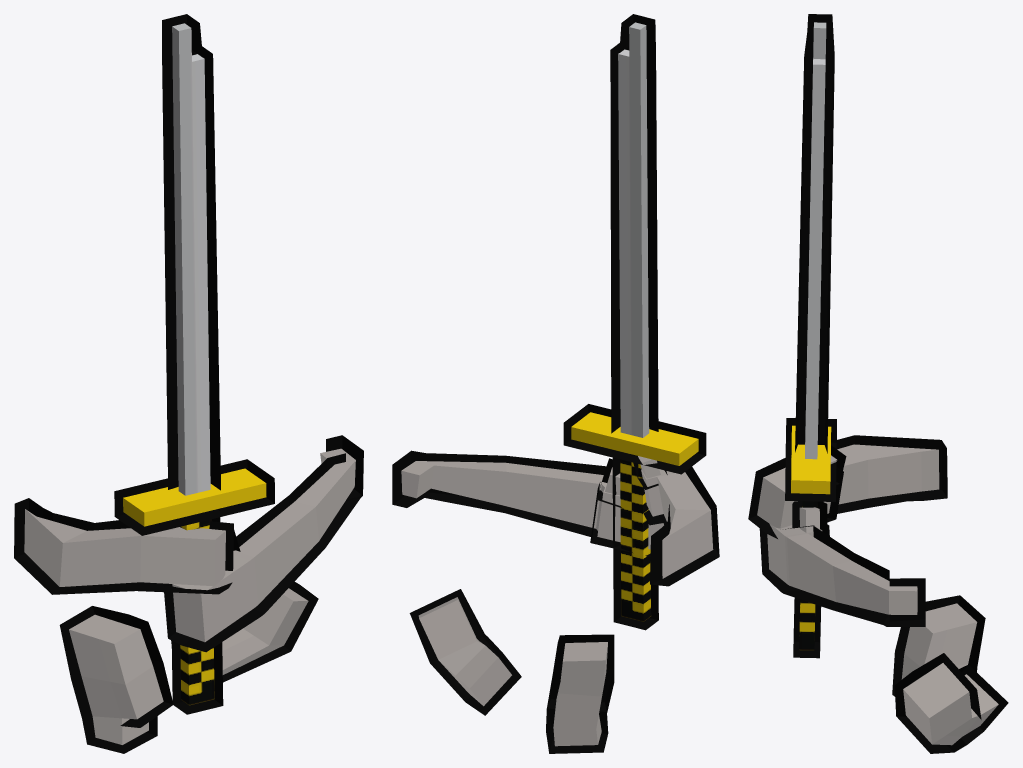
The model's file is Meta_limbs08.glb.
The picture shows the model from 3 angles, left to right: view 1: azimuth 30°, elevation 25°; view 2: azimuth 150°, elevation 25°; view 3: azimuth 270°, elevation 25°; orthographic projection. The views are drawn at different scales.
Visible parts, largest first — view 1: weapon_pose_run08.001; view 2: weapon_pose_run08.001; view 3: weapon_pose_run08.001.
Boxes of the visible parts, x1,y1,x2,y2 form: weapon_pose_run08.001: [14, 14, 363, 753]; weapon_pose_run08.001: [392, 14, 719, 753]; weapon_pose_run08.001: [748, 14, 1008, 753].
Size of the model in its own units: 3.14 by 7.01 by 2.34.
Materials: 3 (2 with a texture image).
